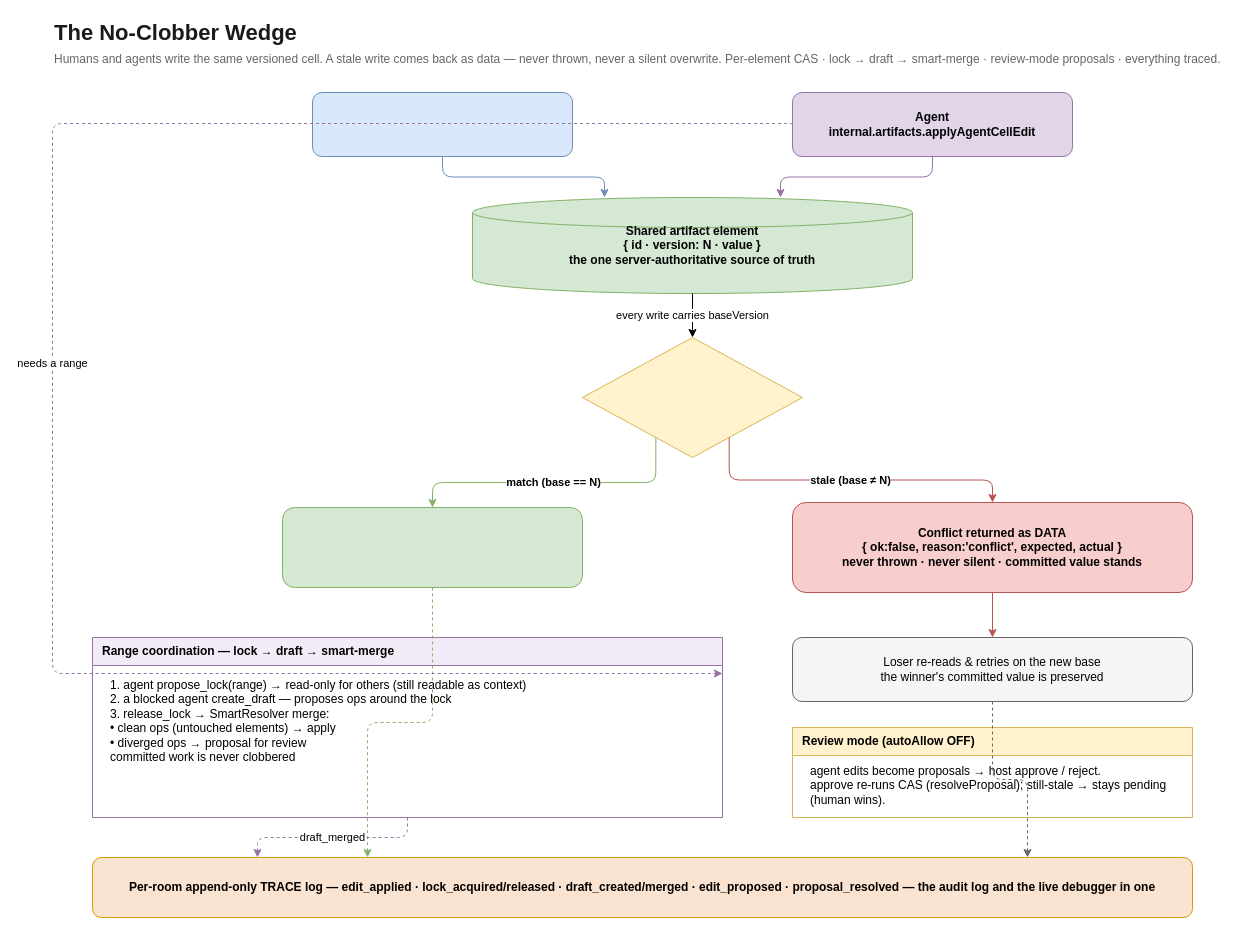
Some shapes in this 1249 by 935 pixel diagram are drawn without their labels. The shapes that lost their labels are listed below. From the top down, each one's centre as x and y in pixels, then its label:
the point at 442,124: Human api.artifacts.applyCellEdit
the point at 692,397: writer.baseVersion == N ?
the point at 432,547: Commit version → N+1 write applied to the cell
